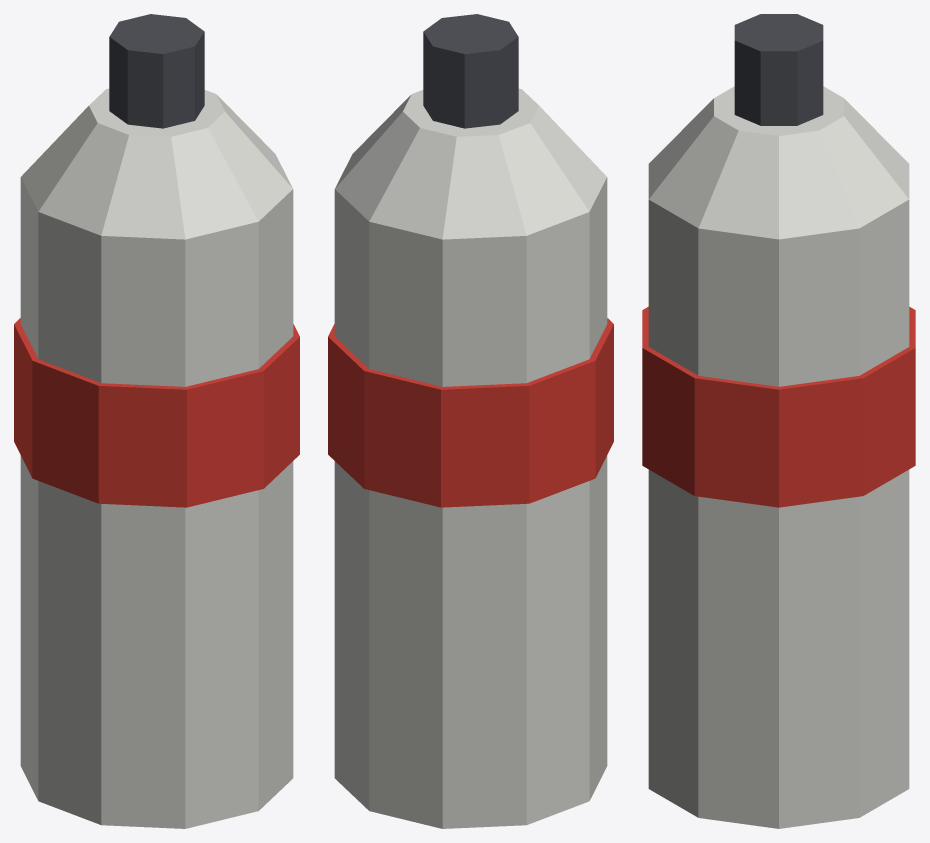
File: item_hydrogen.glb
3 views of the same model, side by side, from view 1: azimuth 30°, elevation 25°; view 2: azimuth 150°, elevation 25°; view 3: azimuth 270°, elevation 25° (orthographic).
Parts seen in each view (by area): view 1: item_hydrogen; view 2: item_hydrogen; view 3: item_hydrogen.
Boxes of the visible parts, bbox=[...] form: item_hydrogen: bbox=[14, 14, 299, 828]; item_hydrogen: bbox=[328, 14, 613, 828]; item_hydrogen: bbox=[642, 14, 915, 828].
Bounding box in the file's own units: 0.42 × 1.19 × 0.3994.
